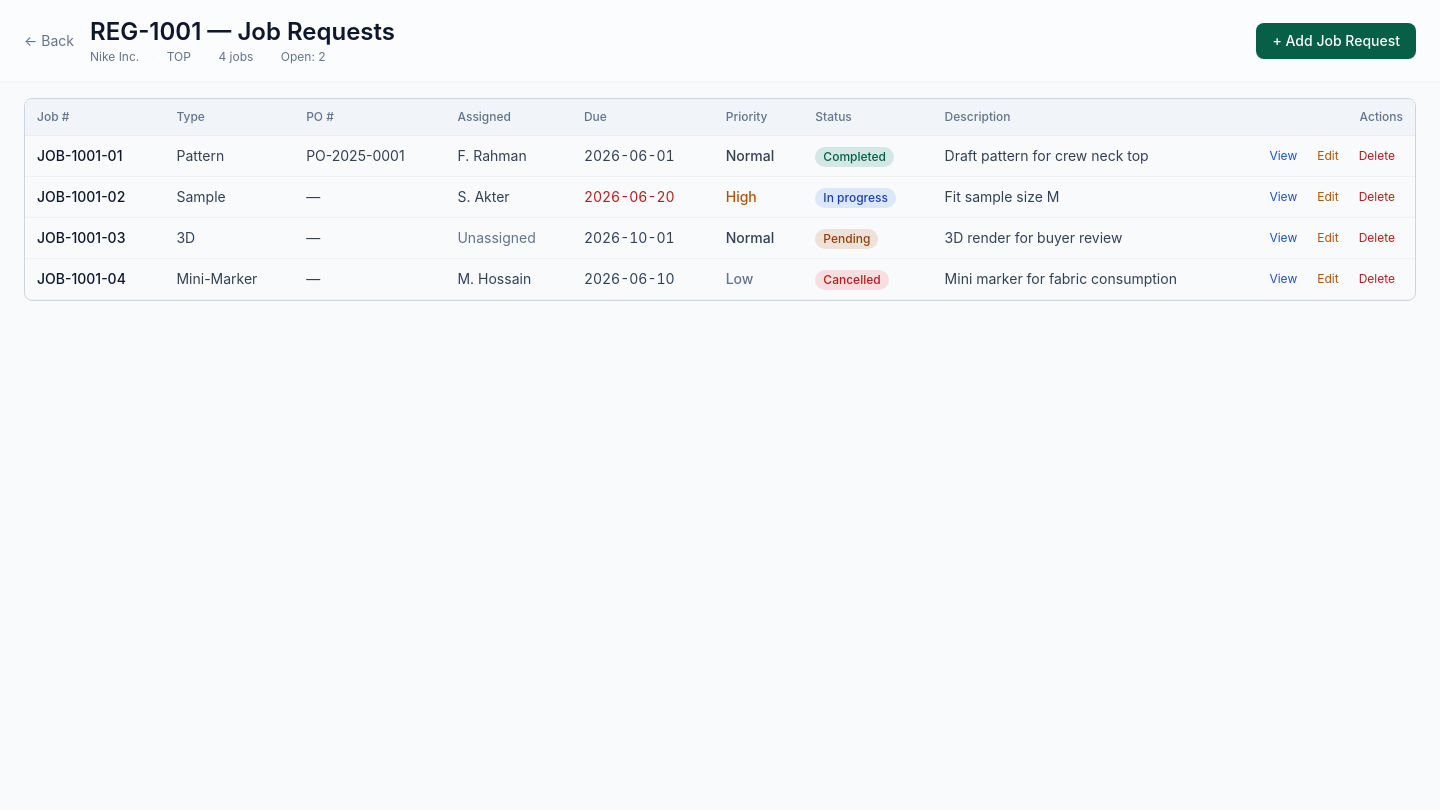
Test case: DesignJobsPage › edits an existing job request
This screenshot has width=1440, height=810.
expect the text "JOB-1001-01" is shown: met, box [25,136,164,177]
Click the button "Edit" in the row of "JOB-1001-01".
click(1328, 156)  # box [1309,144,1347,168]
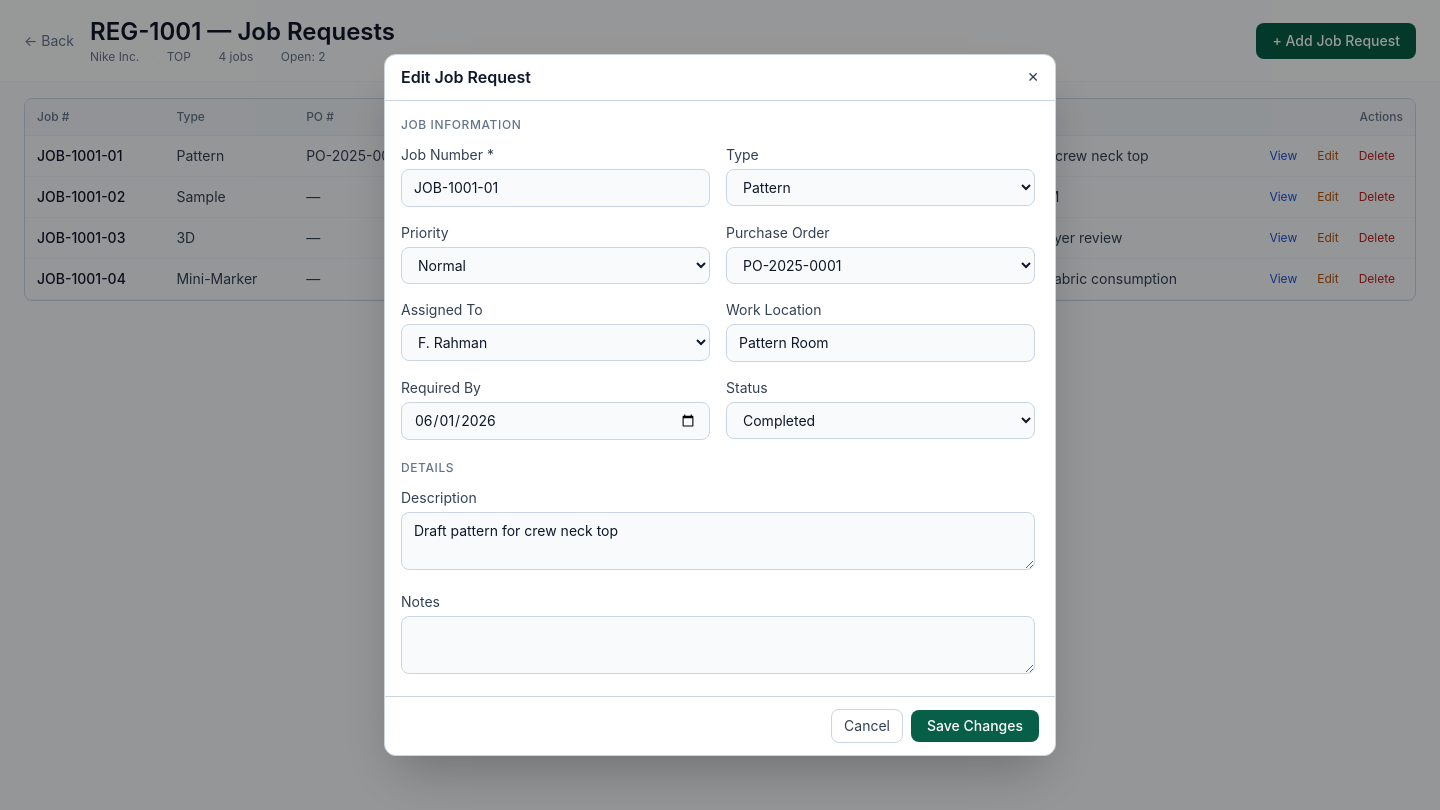
expect the field showing "JOB-1001-01" is shown: met, box [401,169,710,207]
Replace the text in the text box labelled "Description" with "UPDATED JOB SCOPE" at (718, 541), box [401,512,1035,570]
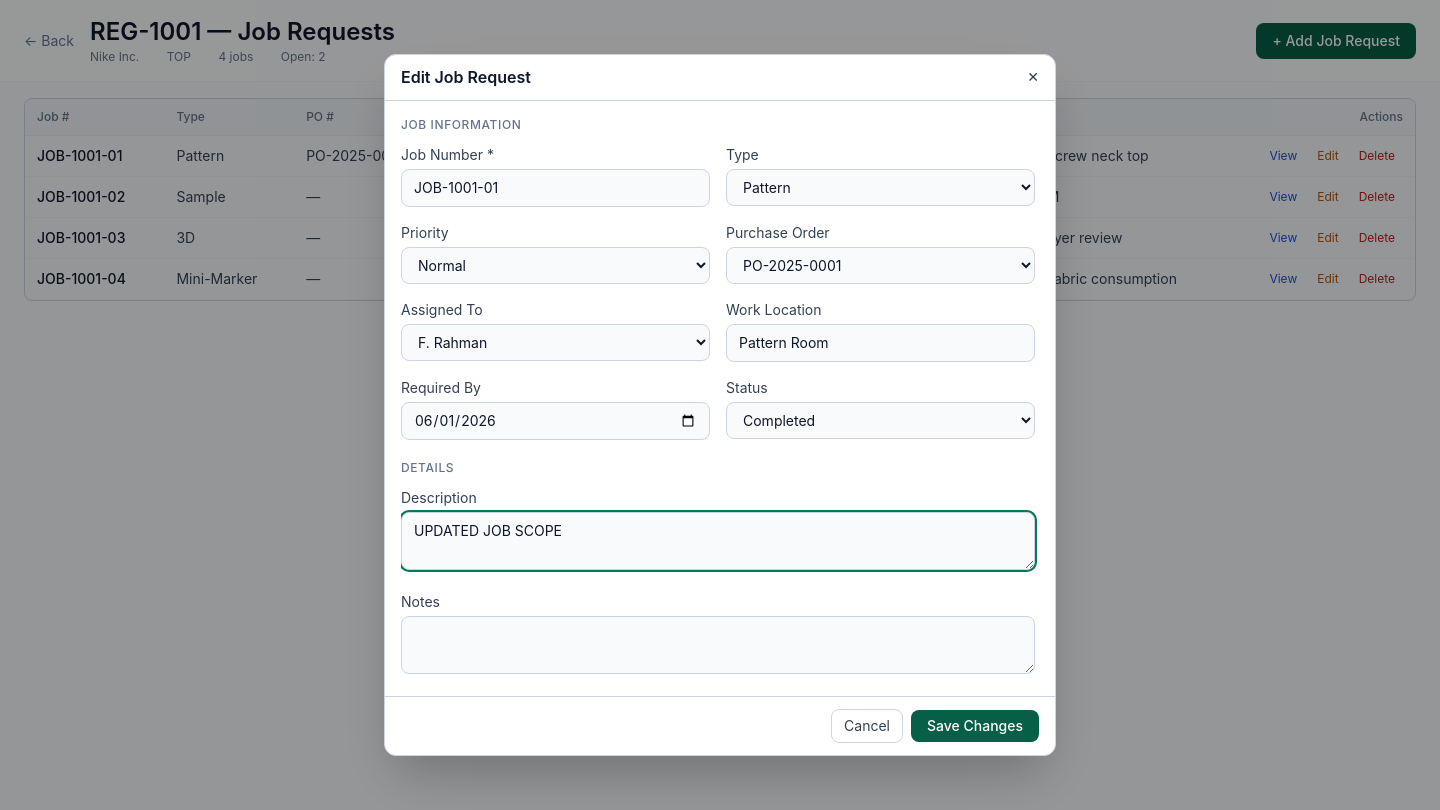
Click the button "Save Changes".
click(975, 726)  # box [911,710,1039,742]
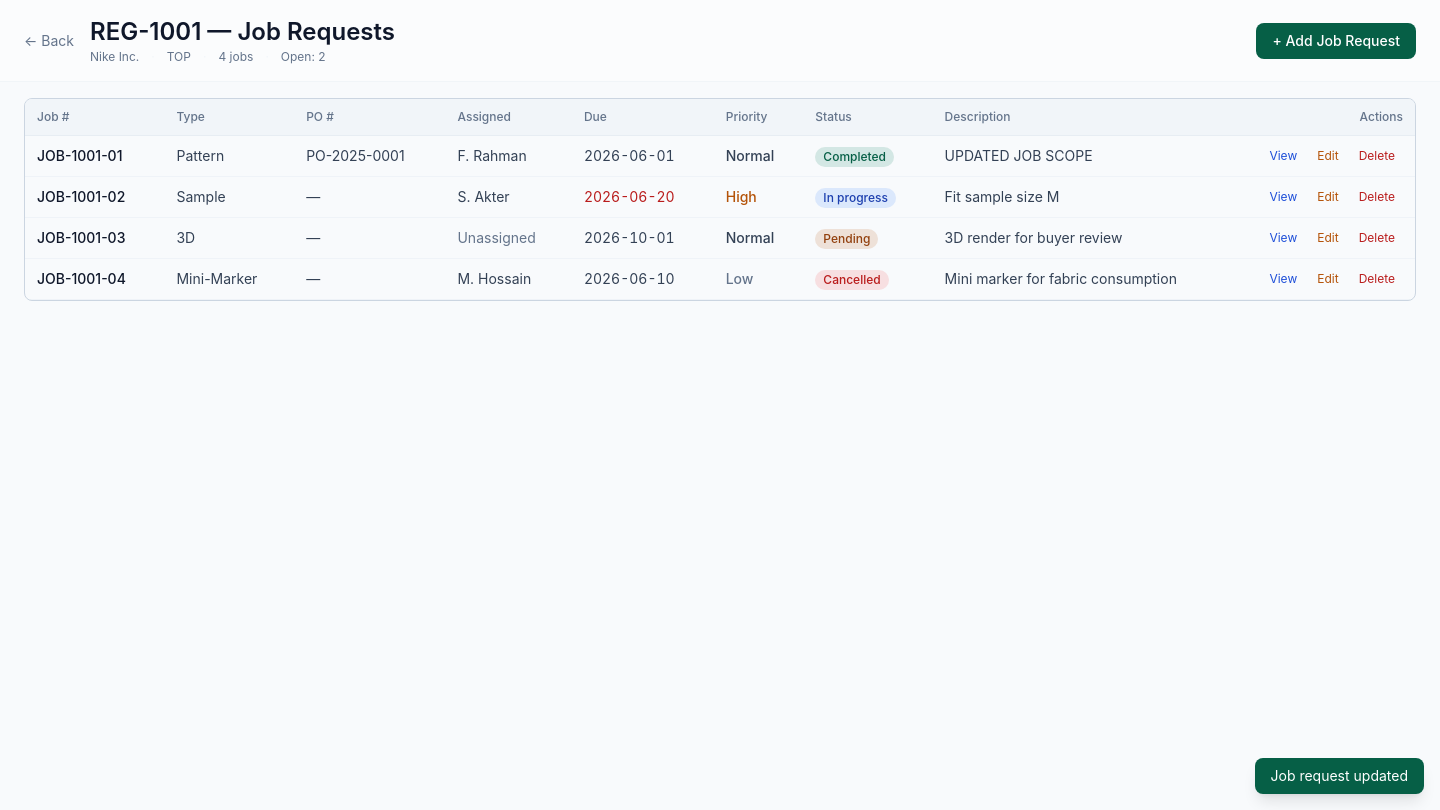
expect the heading "Edit Job Request" is gone: met
expect the text "UPDATED JOB SCOPE" is shown: met, box [933,136,1249,177]
expect the text "Draft pattern for crew neck top" is gone: met
